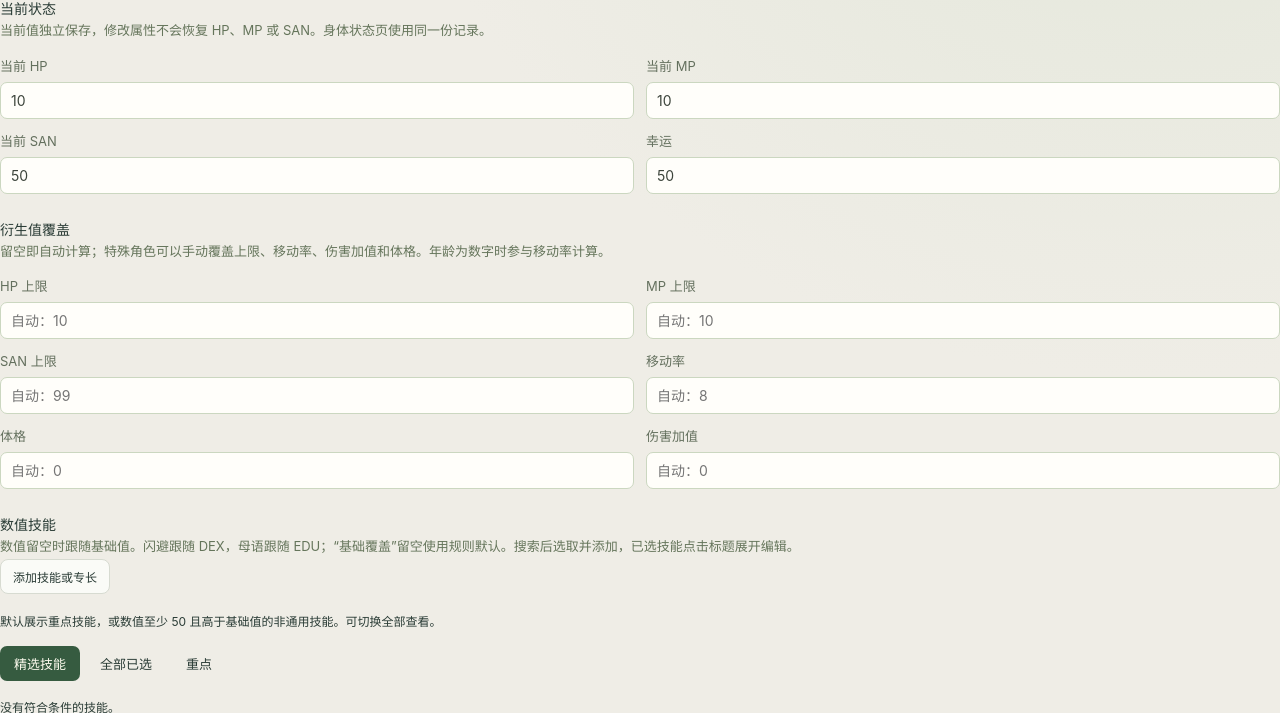
搜索选取后才添加技能，基础值技能可显示，移除后不再展示
(page scrolled)
Expected: the field labelled "搜索库中条目" is not shown
Click the button "添加技能或专长" at (55, 577), box [0,559,110,594]
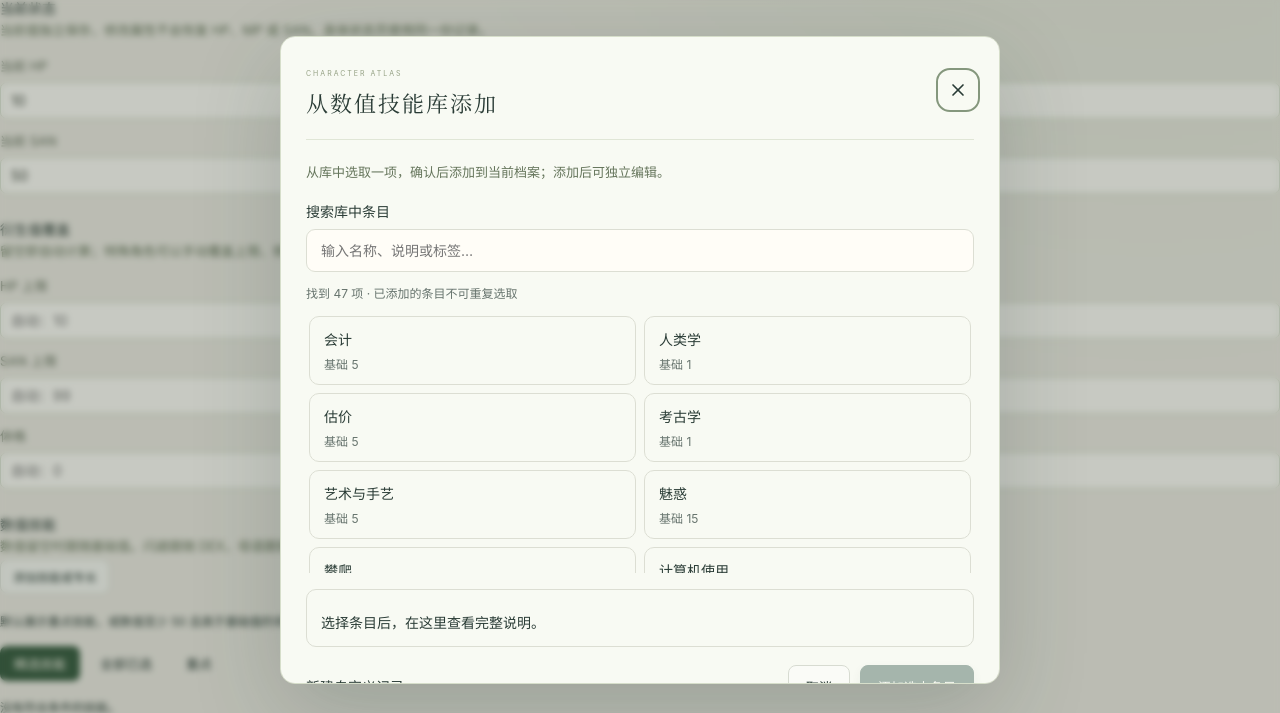
Type "图书馆" into the search field labelled "搜索库中条目" at (640, 250), box [306,229,974,272]
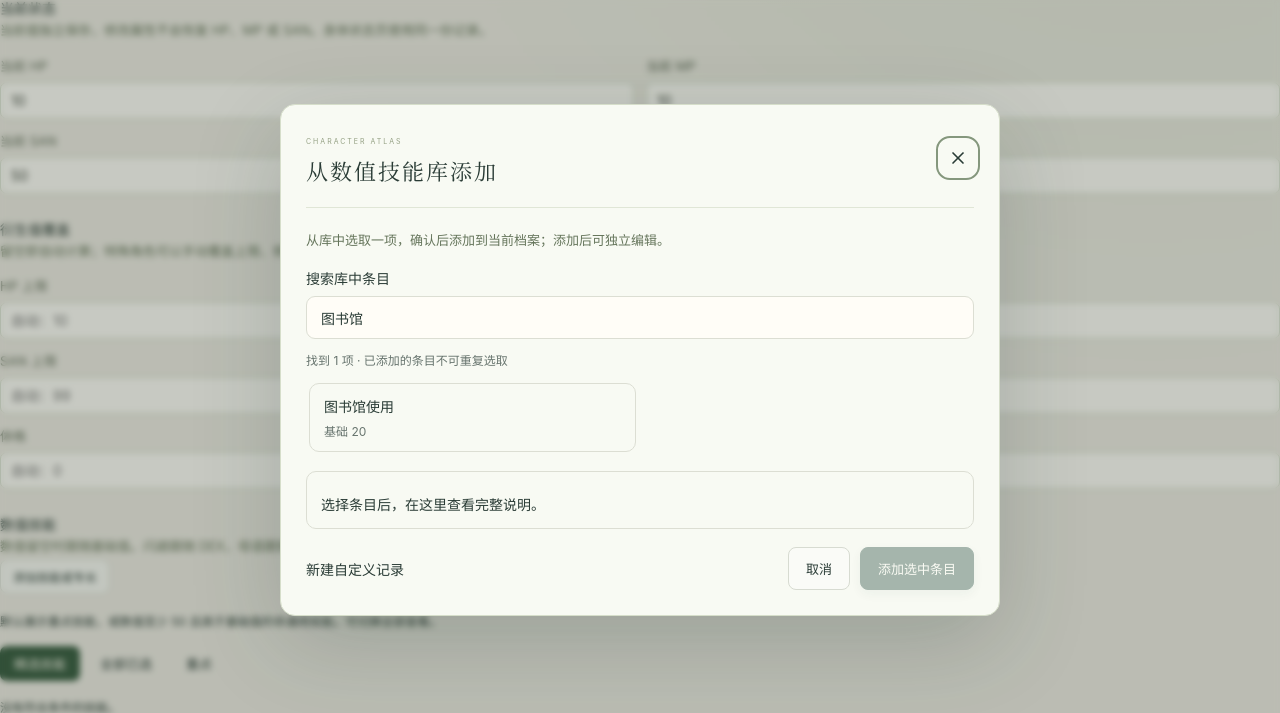
Expected: the dialog "从数值技能库添加" is shown, [280,104,1000,616]
Click the button "图书馆使用 基础 20" at (359, 407), box [309,383,636,452]
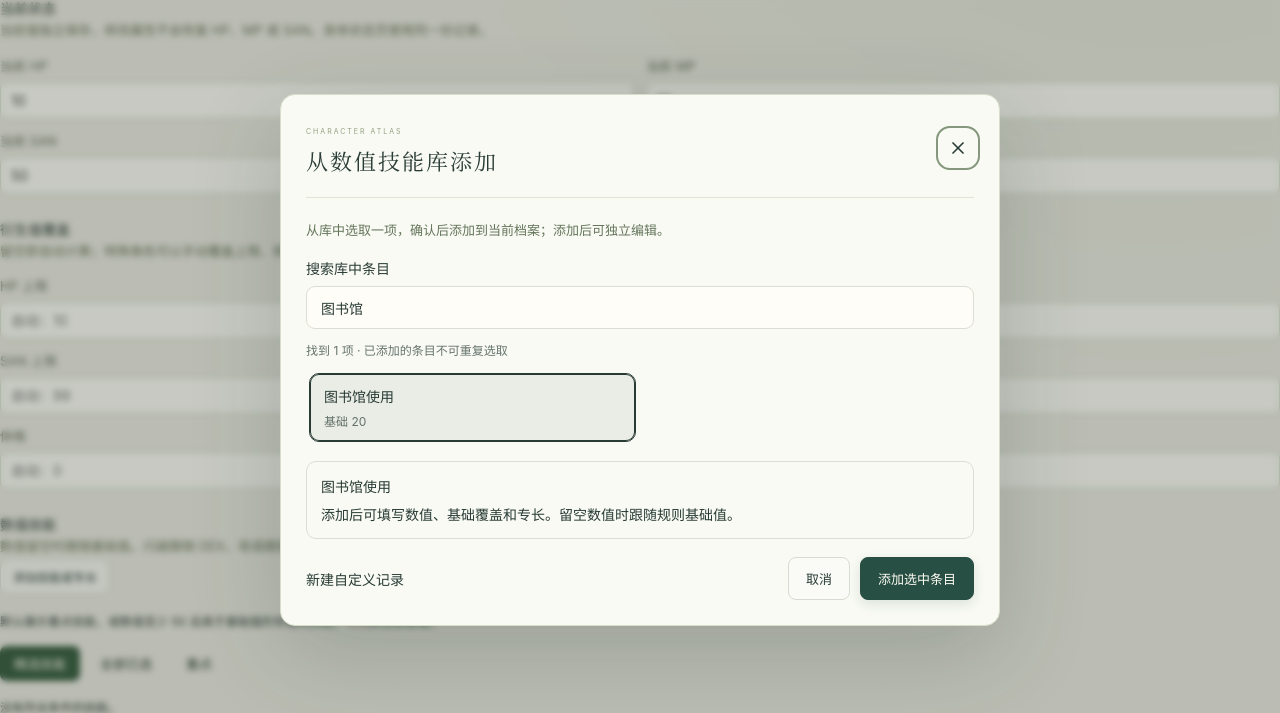
Click the button "添加选中条目" at (917, 579), box [860,557,974,600]
(page scrolled)
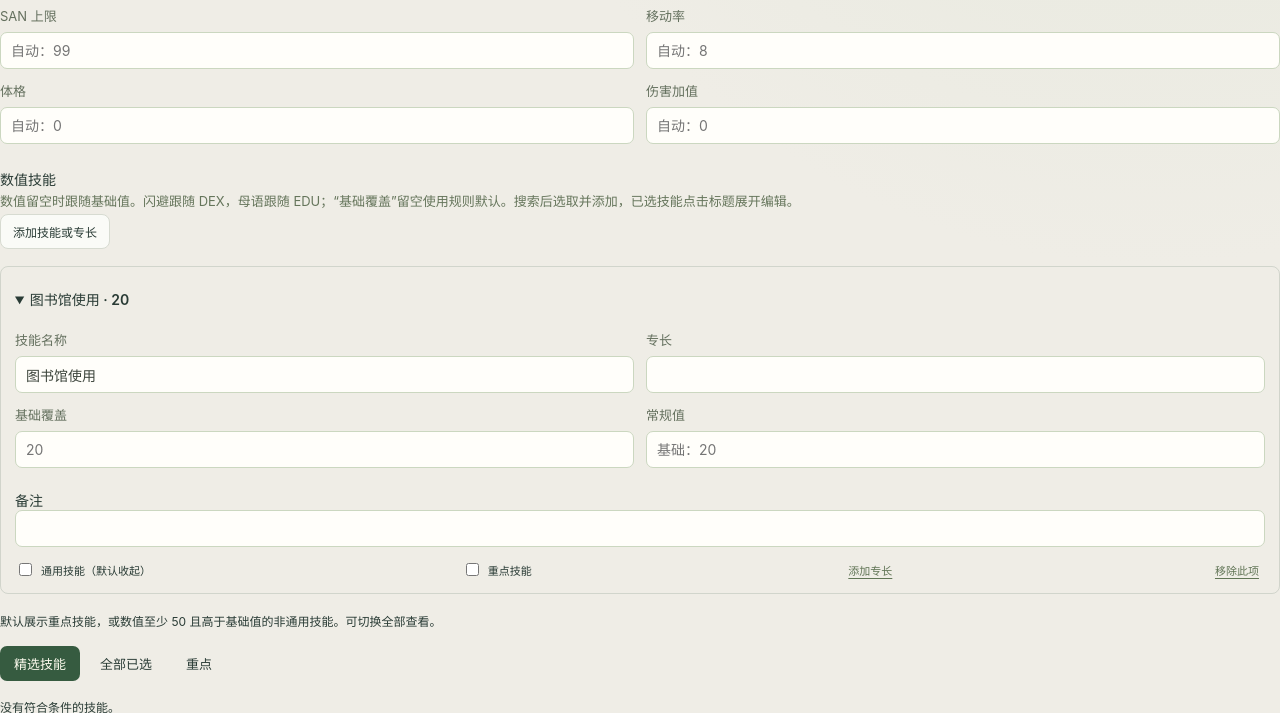
Click the button "全部已选" at (126, 663), box [86,646,166,681]
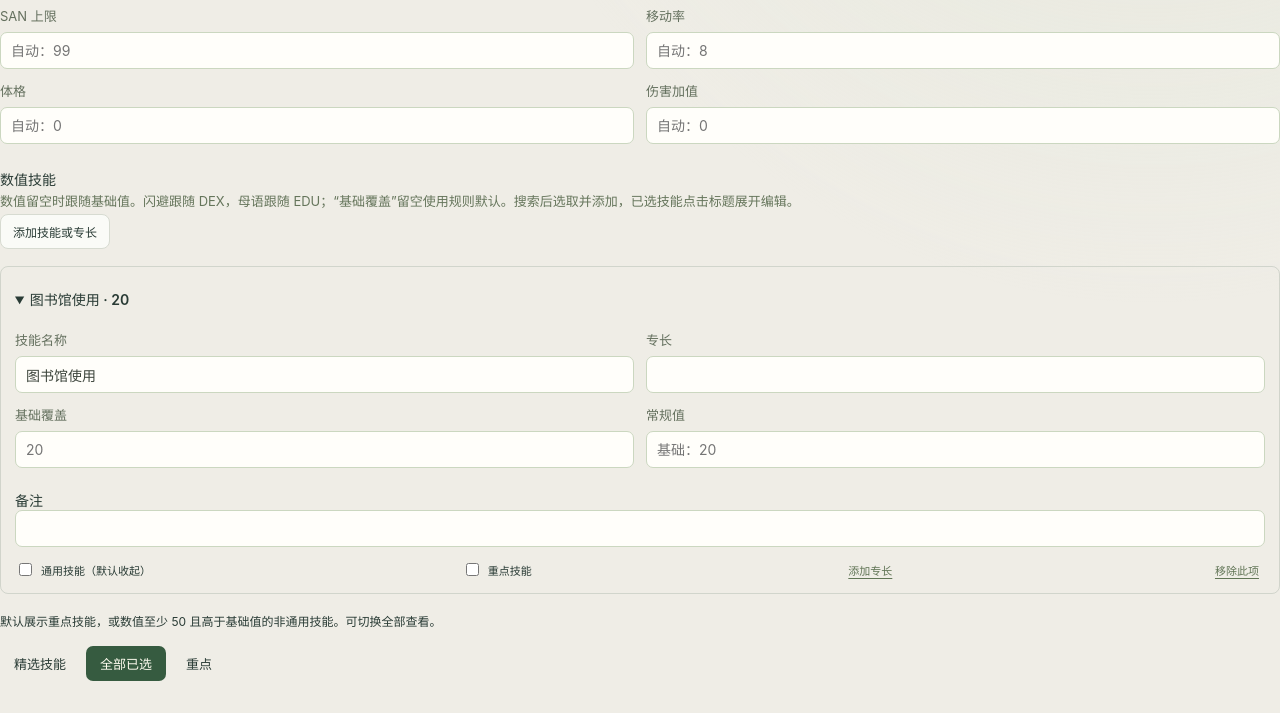
Click the button "移除此项" at (1237, 570), box [1209,560,1265,579]
(page scrolled)
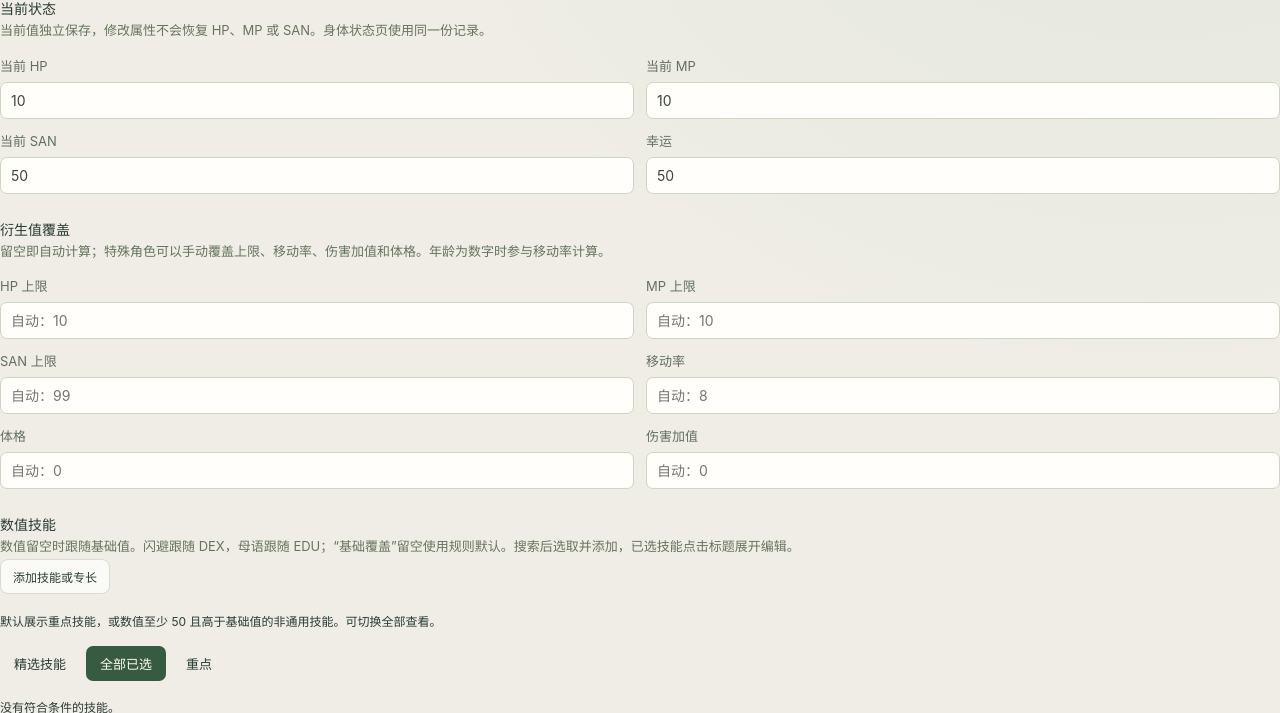
Expected: the number field labelled "图书馆使用 常规 20" is gone
